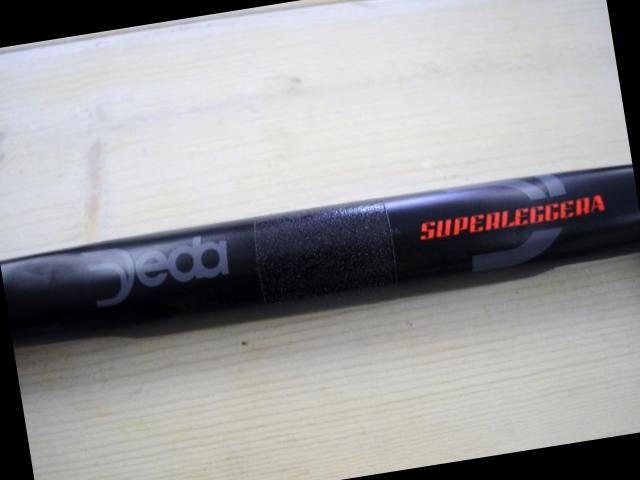PEN: (0, 141, 640, 386)
